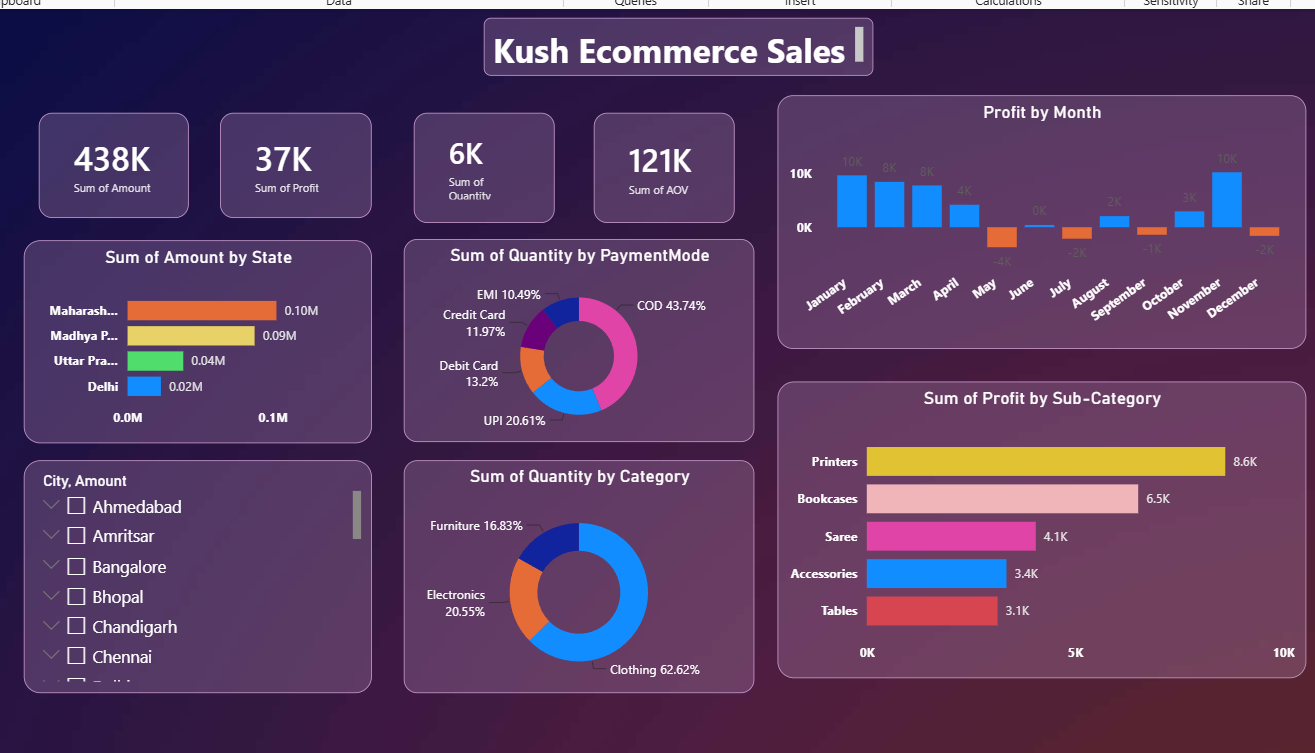

The page's visual inventory and layout, read from the dashboard file:
{"tool":"powerbi","page":{"name":"Page 1","canvas":[1280,720],"ordinal":0},"visuals":[{"type":"textbox","box":[477.1,8.6,375.7,55.7],"z":0},{"type":"columnChart","title":"Profit by Month","fields":{"Category":["Orders.Order Date.Variation.Date Hierarchy.Month"],"Y":["Sum(Details.Profit)"]},"box":[760,83.8,510,245],"z":1000},{"type":"barChart","fields":{"Category":["Details.Sub-Category"],"Y":["Sum(Details.Profit)"]},"box":[760,360,510,286.2],"z":2000},{"type":"donutChart","fields":{"Category":["Details.Category"],"Y":["Sum(Details.Quantity)"]},"box":[398.8,435,338.8,225],"z":3000},{"type":"donutChart","fields":{"Category":["Details.PaymentMode"],"Y":["Sum(Details.Quantity)"]},"box":[398.8,222.5,338.8,196.2],"z":4000},{"type":"cardVisual","fields":{"Data":["Sum(Details.Amount)"]},"box":[47.5,100,145,101.2],"z":5000},{"type":"cardVisual","fields":{"Data":["Sum(Details.Profit)"]},"box":[222.5,100,146.2,101.2],"z":6000},{"type":"cardVisual","fields":{"Data":["Sum(Details.Quantity)"]},"box":[408.8,100,136.2,106.2],"z":7000},{"type":"cardVisual","fields":{"Data":["Sum(Details.AOV)"]},"box":[582.5,100,136.2,106.2],"z":8000},{"type":"barChart","fields":{"Y":["Sum(Details.Amount)"],"Category":["Orders.State"]},"box":[32.5,223.8,336.2,196.2],"z":9000},{"type":"slicer","fields":{"Values":["Orders.City","Details.Amount"]},"box":[33,435,336,225],"z":10000}]}

Visuals, with their boxes on the page's 1280x720 design canvas (x1, y1, x2, y2). These are canvas units, not pixel positions in the 1315x753 screenshot, which may show the page scaled, cropped or inside an application window:
textbox: region(477, 9, 853, 64)
"Profit by Month" columnChart: region(760, 84, 1270, 329)
barChart - Details.Sub-Category x Sum(Details.Profit): region(760, 360, 1270, 646)
donutChart - Details.Category x Sum(Details.Quantity): region(399, 435, 738, 660)
donutChart - Details.PaymentMode x Sum(Details.Quantity): region(399, 222, 738, 419)
cardVisual - Sum(Details.Amount): region(48, 100, 192, 201)
cardVisual - Sum(Details.Profit): region(222, 100, 369, 201)
cardVisual - Sum(Details.Quantity): region(409, 100, 545, 206)
cardVisual - Sum(Details.AOV): region(582, 100, 719, 206)
barChart - Sum(Details.Amount) x Orders.State: region(32, 224, 369, 420)
slicer - Orders.City x Details.Amount: region(33, 435, 369, 660)
